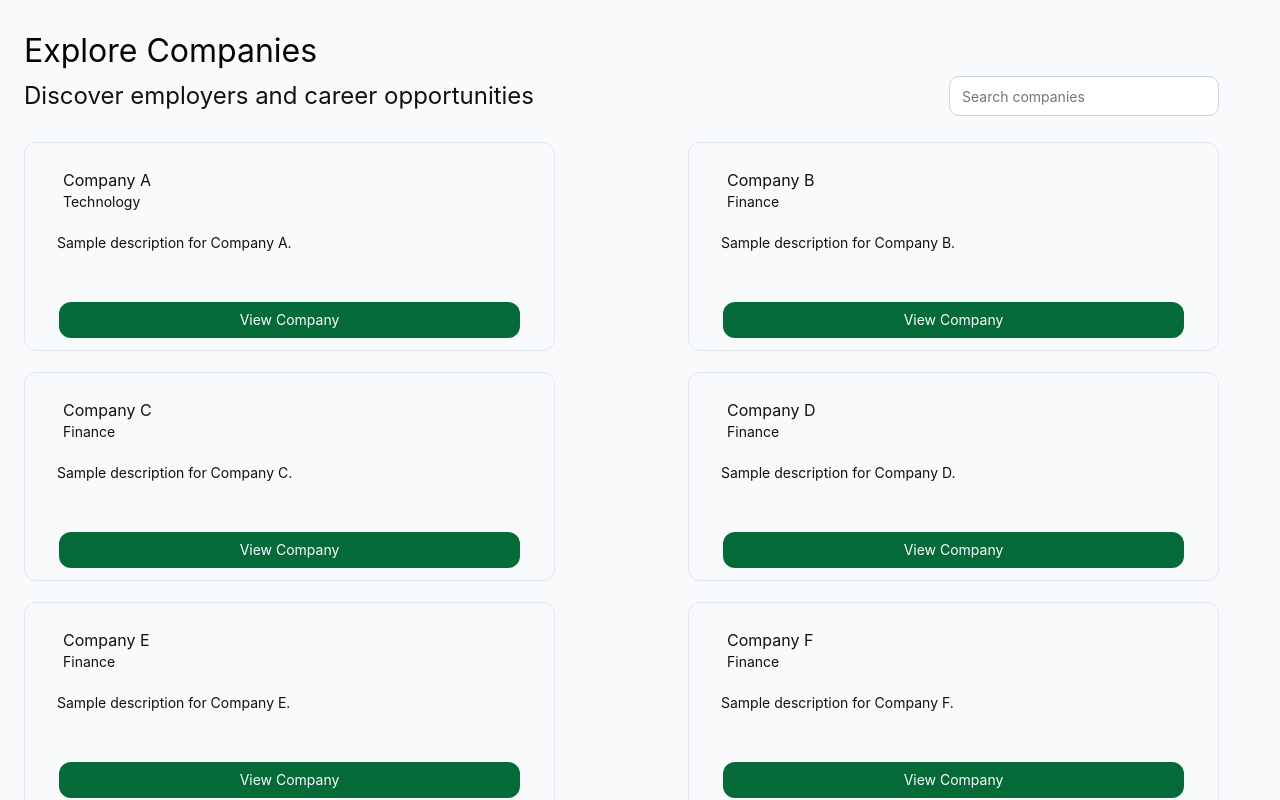
Test: ExploreCompanies › filters company cards by name without case sensitivity
This screenshot has width=1280, height=800.
Type "company c" into the search field named "Search companies by name".
click(1084, 96); type("company c")  # box [949,76,1219,116]
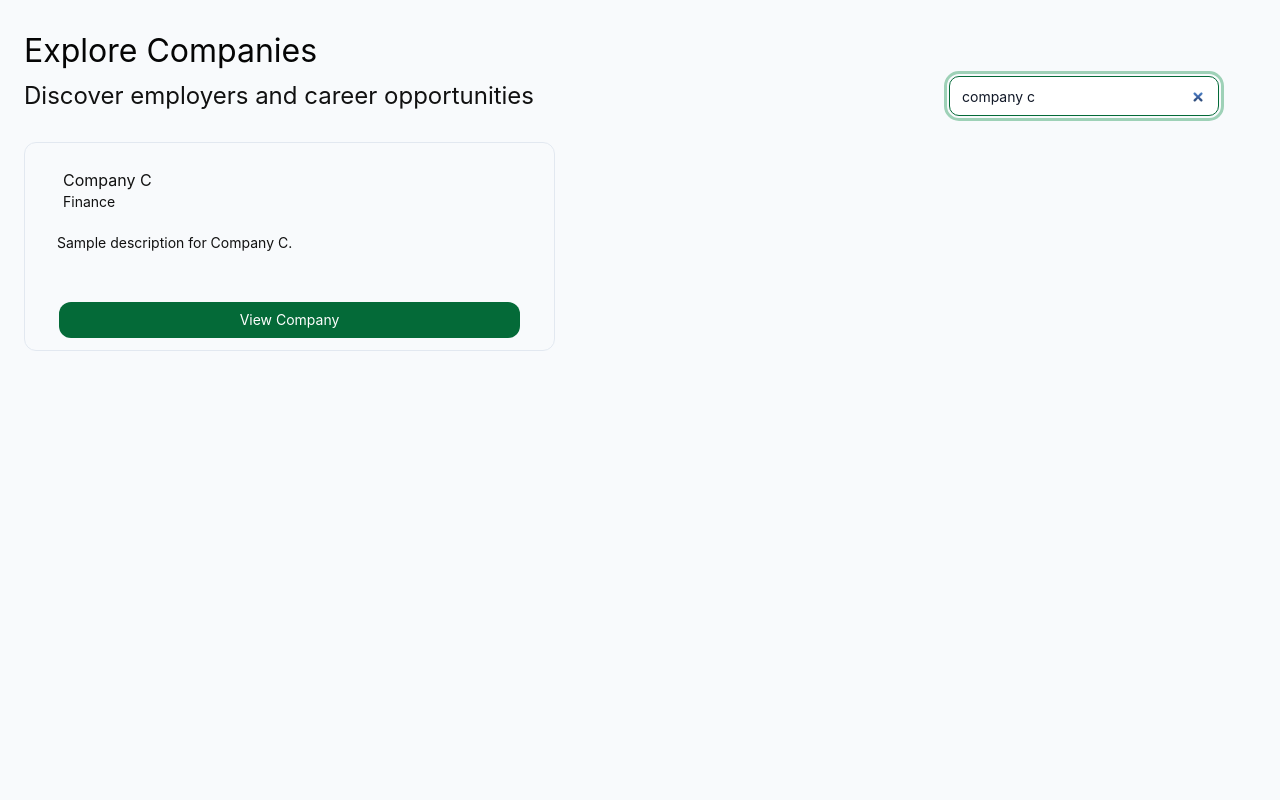
Expected: the number of links is 1, [24,142,555,351]
